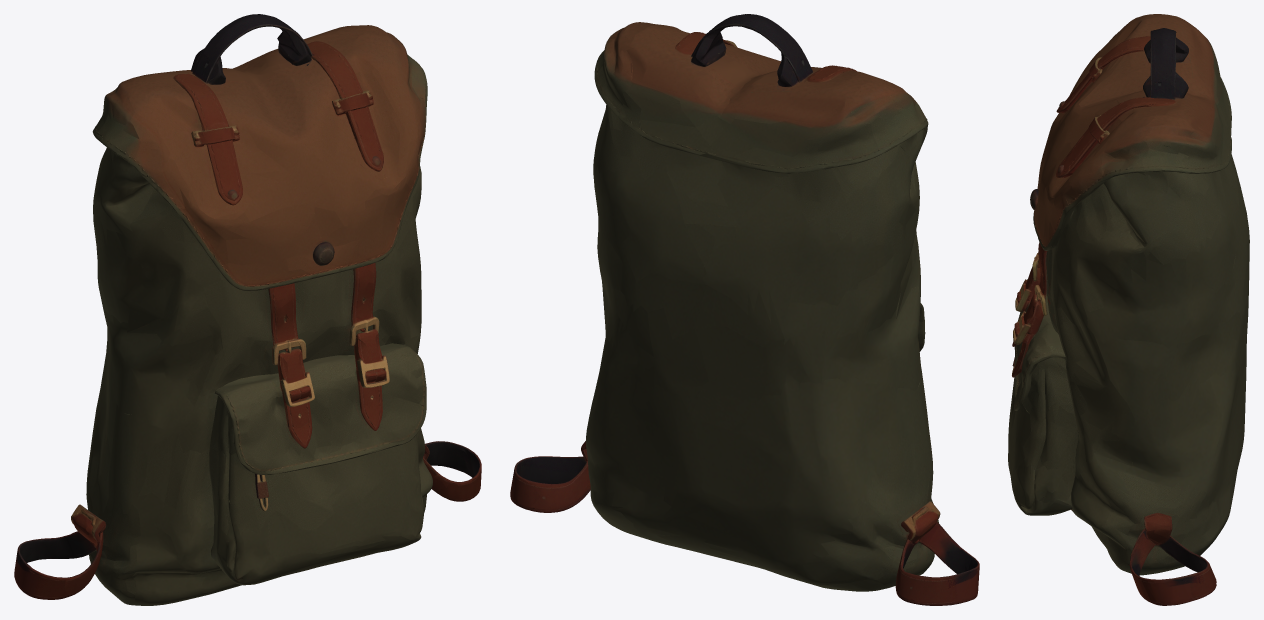
Rendered from mochila.glb.
The picture shows the model from 3 angles, left to right: view 1: azimuth 30°, elevation 25°; view 2: azimuth 150°, elevation 25°; view 3: azimuth 270°, elevation 25°; orthographic projection. The views are drawn at different scales.
Bounding box in the file's own units: 1.69 × 1.9 × 0.8585.
1 material, 1 textured.
